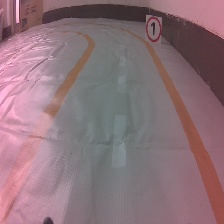limit: (144, 13, 164, 45)
